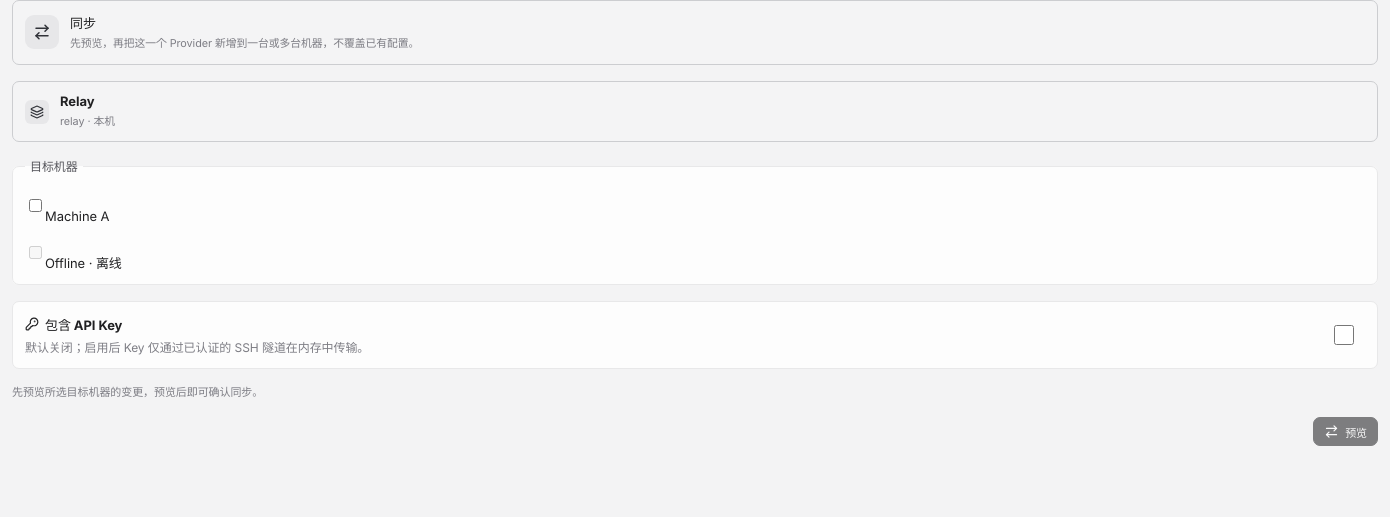
provider transfer › explains why an existing configuration has no changes to apply
Click the checkbox labelled "Machine A".
click(36, 206)  # box [29, 190, 42, 221]
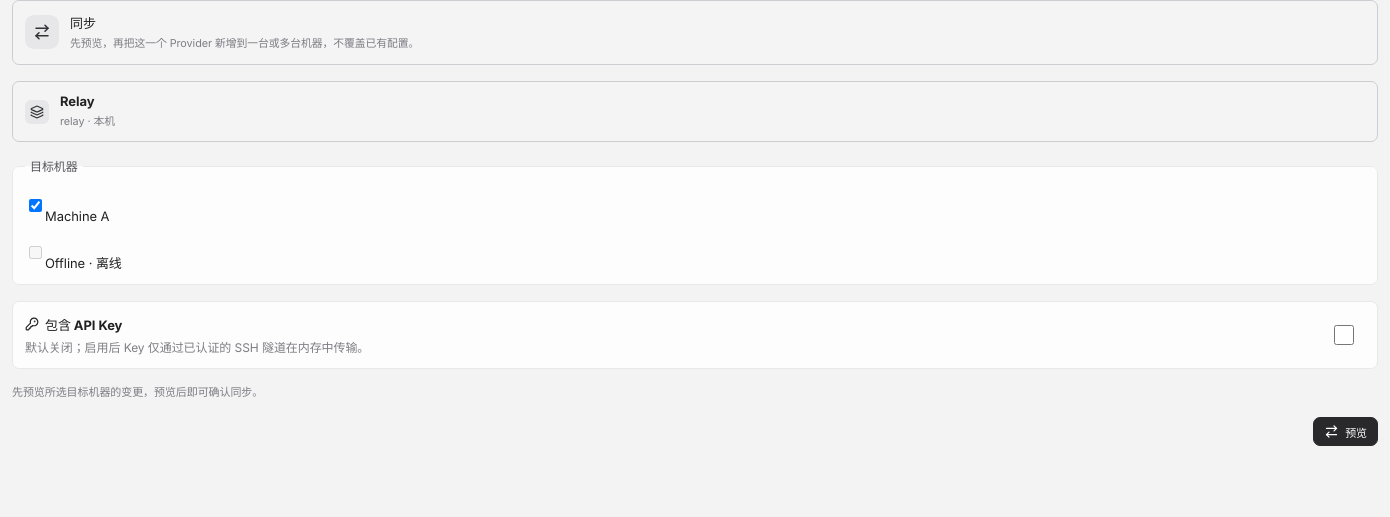
Click the button "预览".
click(1346, 432)  # box [1313, 417, 1378, 446]
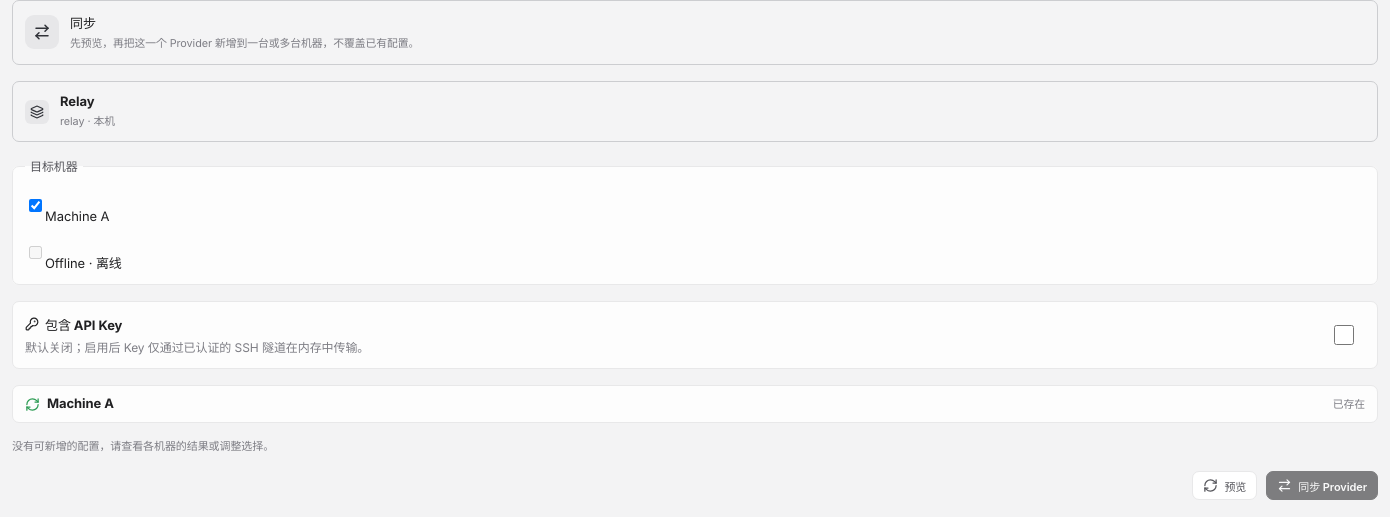
Result: the button "同步 Provider" is disabled at [1266, 471, 1378, 500]
Result: the text "没有可新增的配置" is shown at [12, 439, 274, 453]
